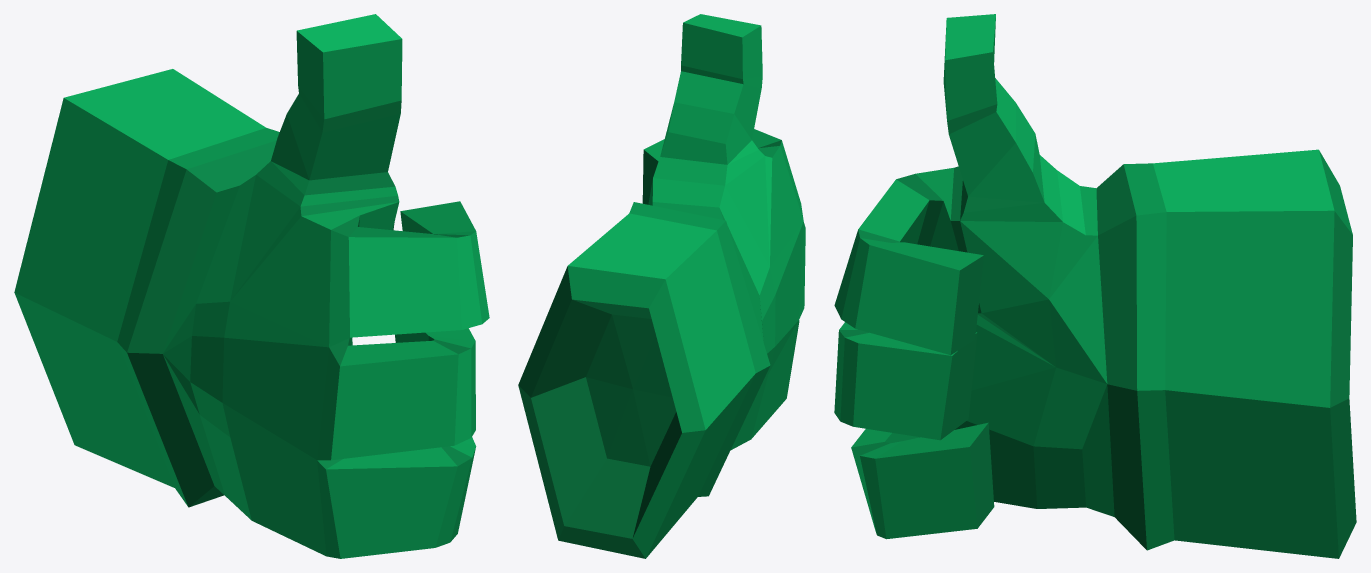
The model's file is Lynxhand.fbx.
3 renders of one model, left to right at view 1: azimuth 30°, elevation 25°; view 2: azimuth 150°, elevation 25°; view 3: azimuth 270°, elevation 25°, orthographic. The views are drawn at different scales.
Visible parts, largest first — view 1: Lynx_Hand; view 2: Lynx_Hand; view 3: Lynx_Hand.
Part boxes in pixels (box(x1,y1,x2,y2)): Lynx_Hand: box(14, 14, 489, 558); Lynx_Hand: box(518, 14, 805, 558); Lynx_Hand: box(834, 14, 1356, 558).
Bounding box in the file's own units: 135 × 254 × 232.
